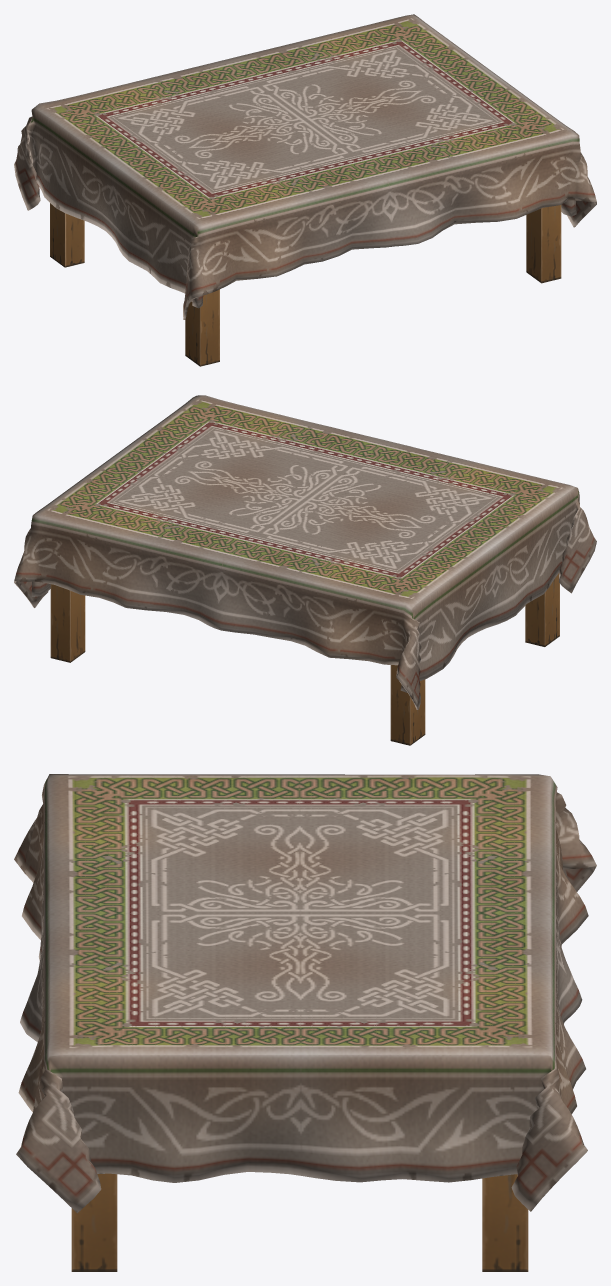
Rendered from sb_obj_indoor005_Table02.fbx.
3 views of the same model, one above another, from view 1: azimuth 30°, elevation 25°; view 2: azimuth 150°, elevation 25°; view 3: azimuth 270°, elevation 25° (orthographic). The views are drawn at different scales.
Parts seen in each view (by area): view 1: cloth, table; view 2: cloth, table; view 3: cloth, table.
Part boxes in pixels (x1,y1,x2,y2): cloth: (14, 14, 596, 319); table: (50, 203, 561, 366); cloth: (14, 395, 596, 709); table: (50, 573, 559, 745); cloth: (14, 774, 596, 1213); table: (71, 1173, 528, 1271).
Bounding box in the file's own units: 2.14 × 0.7578 × 1.76.
